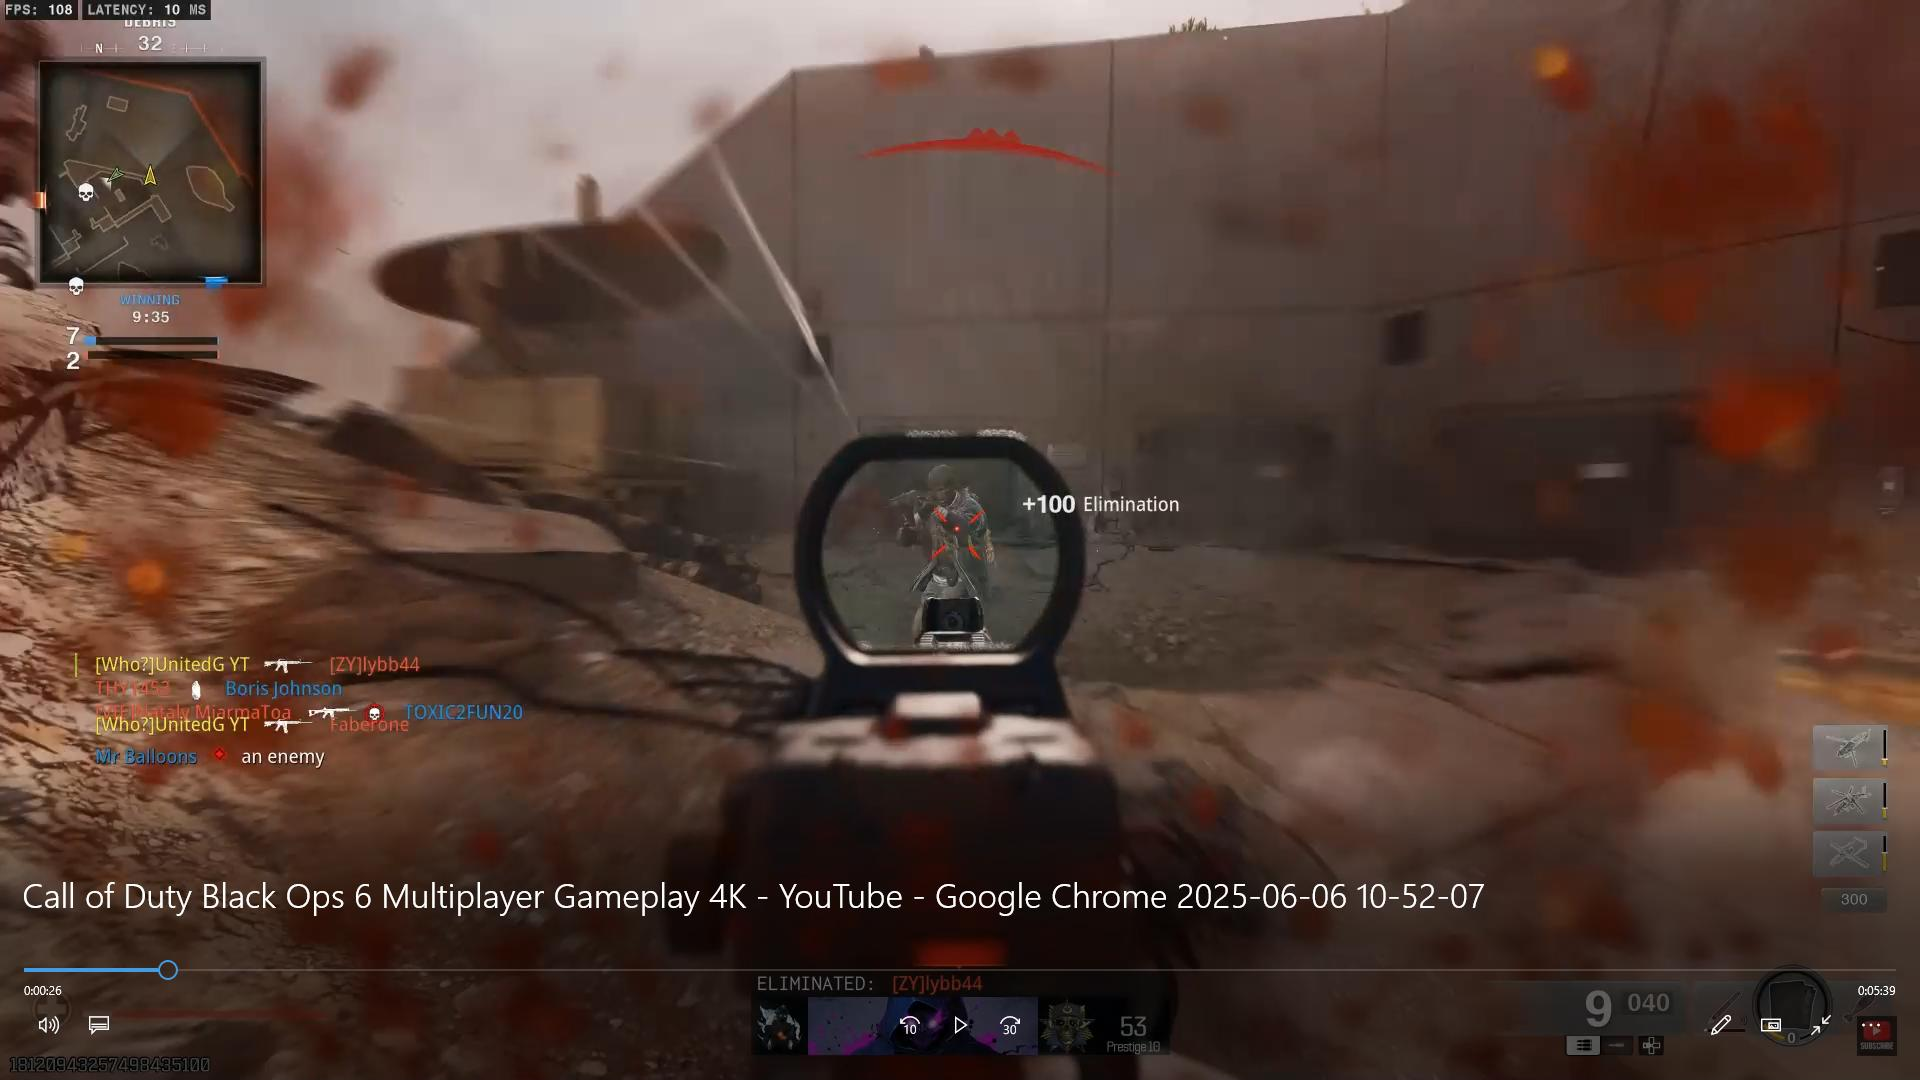Enemy: (895, 460, 1017, 612)
